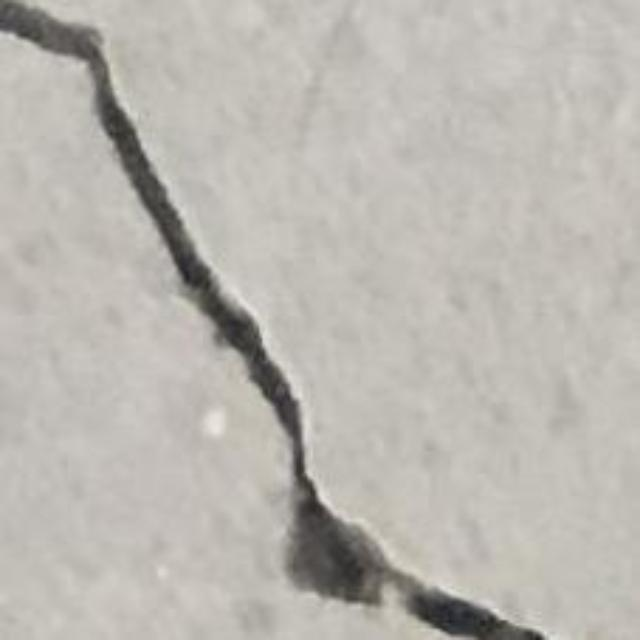crack: (0, 0, 546, 639)
